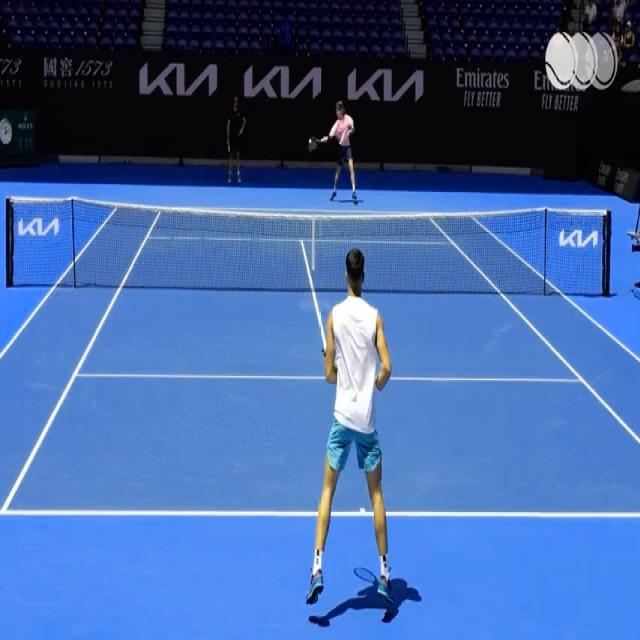ready-position: (319, 247, 398, 610)
